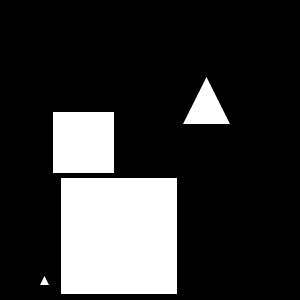circle: (61, 178, 177, 294), (53, 112, 114, 173)
triangle: (183, 77, 230, 124), (40, 276, 49, 285)
